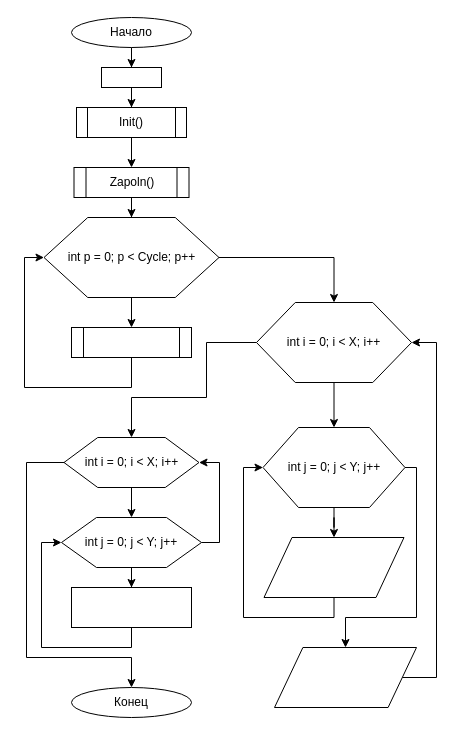
This 462x735 diagram has some shape labels left out. The shapes that lost their labels are listed below. From the top down, each one's box as (x1, y1, x2, y2) in pixels, then its label:
(100, 66, 162, 88): int o
(70, 326, 192, 358): Live();
(263, 536, 404, 598): cout << pole[i][j];
(70, 586, 192, 628): pole[i][j] = pole2[i][j]
(274, 646, 416, 708): cout << " " << '\n';
